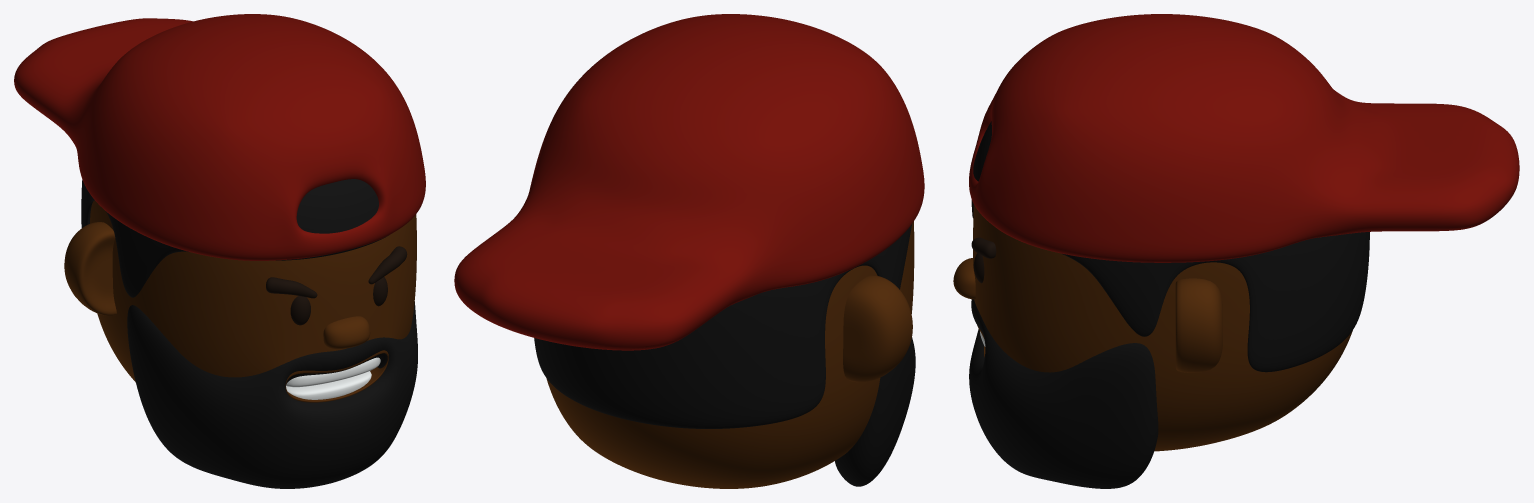
Rendered from MetaRiq.glb.
3 views of the same model, side by side, from view 1: azimuth 30°, elevation 25°; view 2: azimuth 150°, elevation 25°; view 3: azimuth 270°, elevation 25° (orthographic). The views are drawn at different scales.
Parts seen in each view (by area): view 1: hat, barbe, head, hair, Oreille, sourcils, Nez, Dentbas, Denthaut, yeux; view 2: hat, hair, head, Oreille, barbe; view 3: hat, head, barbe, hair, Oreille, Nez.
Boxes of the visible parts, x1=… form: hat: x1=14, y1=14, x2=425, y2=260; barbe: x1=127, y1=301, x2=417, y2=488; head: x1=90, y1=200, x2=416, y2=402; hair: x1=81, y1=179, x2=388, y2=297; Oreille: x1=64, y1=222, x2=116, y2=315; sourcils: x1=266, y1=246, x2=407, y2=298; Nez: x1=323, y1=316, x2=370, y2=349; Dentbas: x1=286, y1=371, x2=371, y2=399; Denthaut: x1=286, y1=357, x2=380, y2=387; yeux: x1=290, y1=277, x2=387, y2=325; hat: x1=454, y1=14, x2=924, y2=350; hair: x1=534, y1=224, x2=911, y2=428; head: x1=546, y1=221, x2=914, y2=488; Oreille: x1=843, y1=275, x2=912, y2=382; barbe: x1=835, y1=337, x2=915, y2=486; hat: x1=969, y1=14, x2=1519, y2=262; head: x1=973, y1=205, x2=1352, y2=451; barbe: x1=969, y1=299, x2=1158, y2=488; hair: x1=973, y1=121, x2=1369, y2=372; Oreille: x1=1175, y1=278, x2=1222, y2=372; Nez: x1=953, y1=258, x2=975, y2=299.
Bounding box in the file's own units: 0.3283 × 0.3626 × 0.4483.
